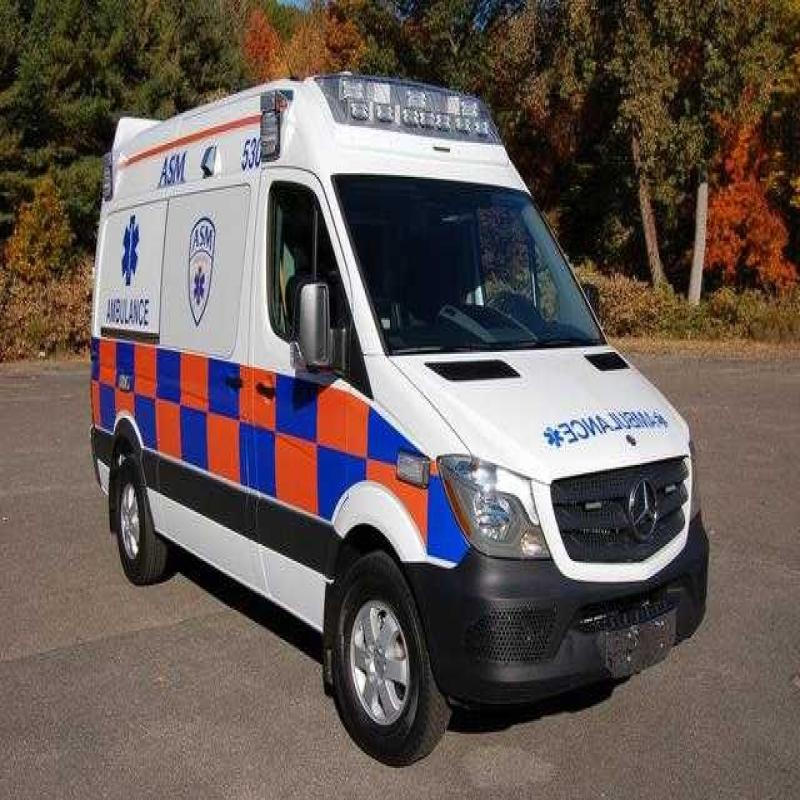ambulance: (84, 84, 688, 744)
